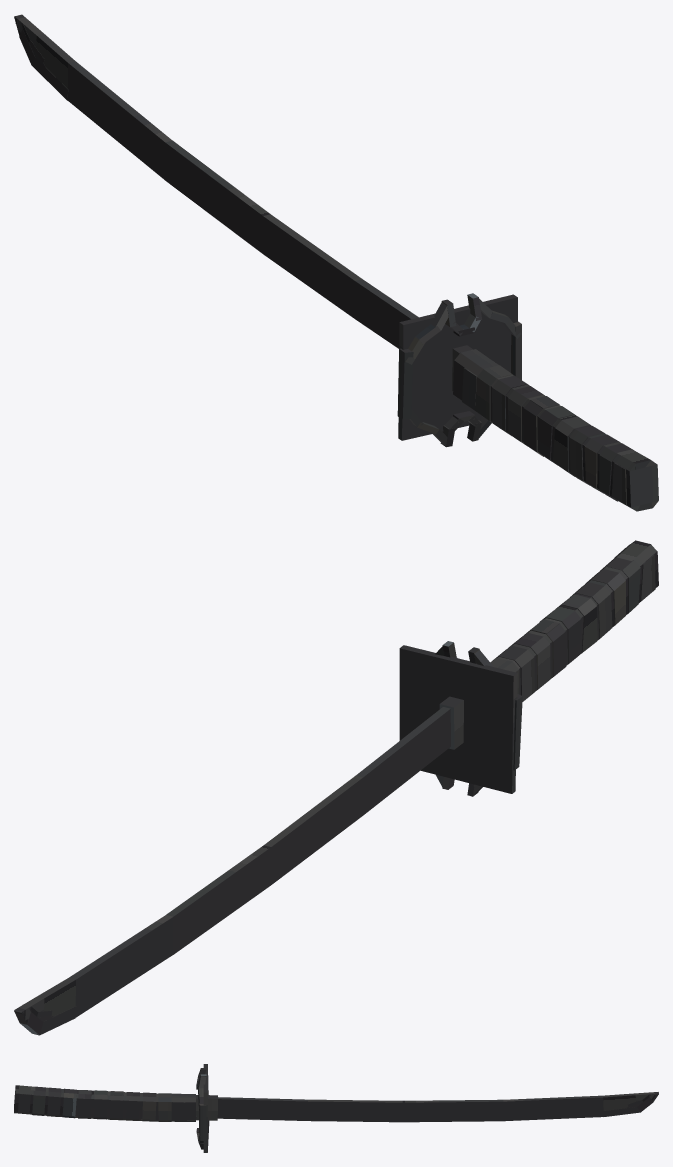
File: odachi.obj
3 views of the same model, one above another, from view 1: azimuth 30°, elevation 25°; view 2: azimuth 150°, elevation 25°; view 3: azimuth 270°, elevation 25° (orthographic). The views are drawn at different scales.
Visible parts, largest first — view 1: Odachi; view 2: Odachi; view 3: Odachi.
Boxes of the visible parts, x1,y1,x2,y2 form: Odachi: (14, 14, 658, 511); Odachi: (14, 540, 658, 1035); Odachi: (14, 1064, 658, 1152).
Bounding box in the file's own units: 0.375 × 0.4388 × 3.48.
